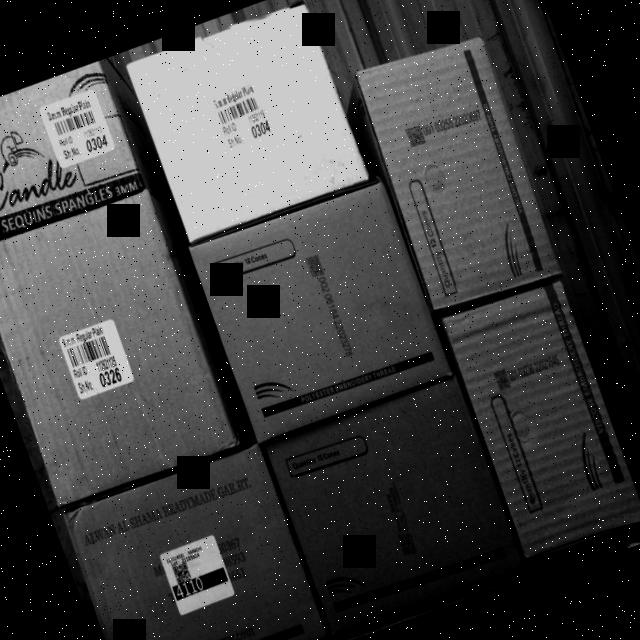box: (0, 187, 243, 511), (187, 174, 452, 442), (262, 374, 526, 640), (350, 31, 565, 318), (123, 0, 369, 242), (441, 278, 640, 559), (61, 439, 329, 640), (0, 57, 153, 252)
